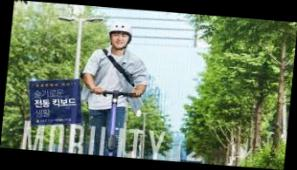helmet: (78, 20, 154, 159)
